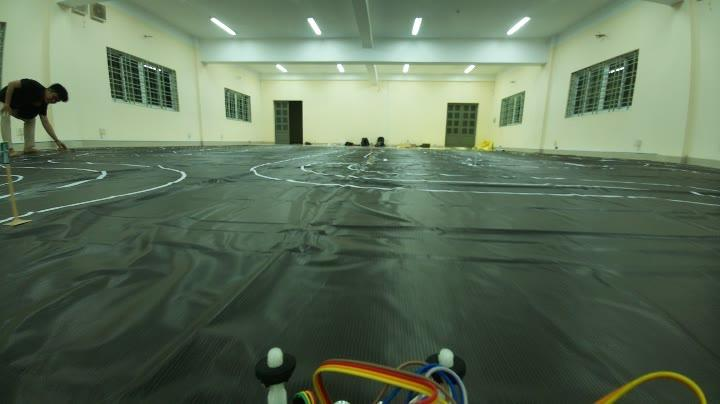highway_entry: (1, 138, 13, 172)
